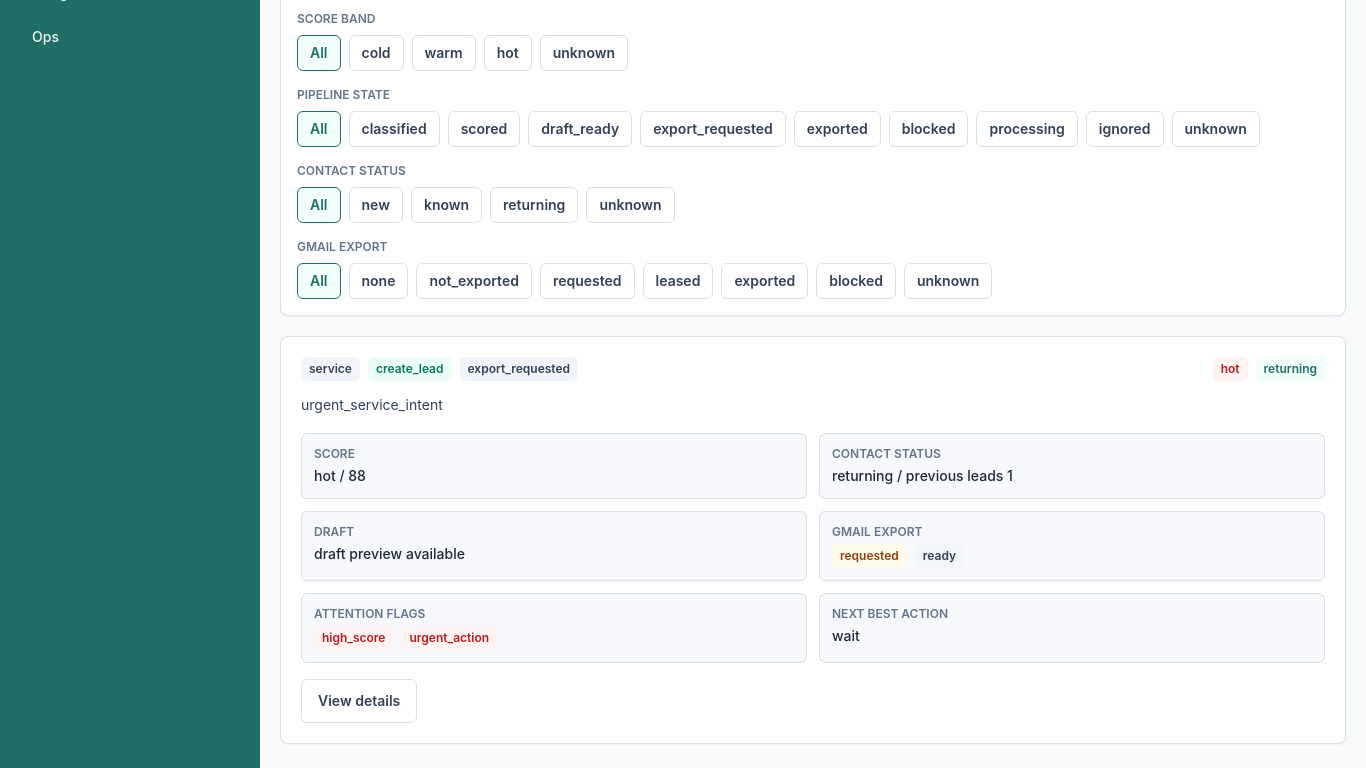
Test: admin app › opens the mail queue detail drawer with safe read-only cards and links
(page scrolled)
Click the button "View details".
click(359, 701)  # box x1=301 y1=679 x2=417 y2=723
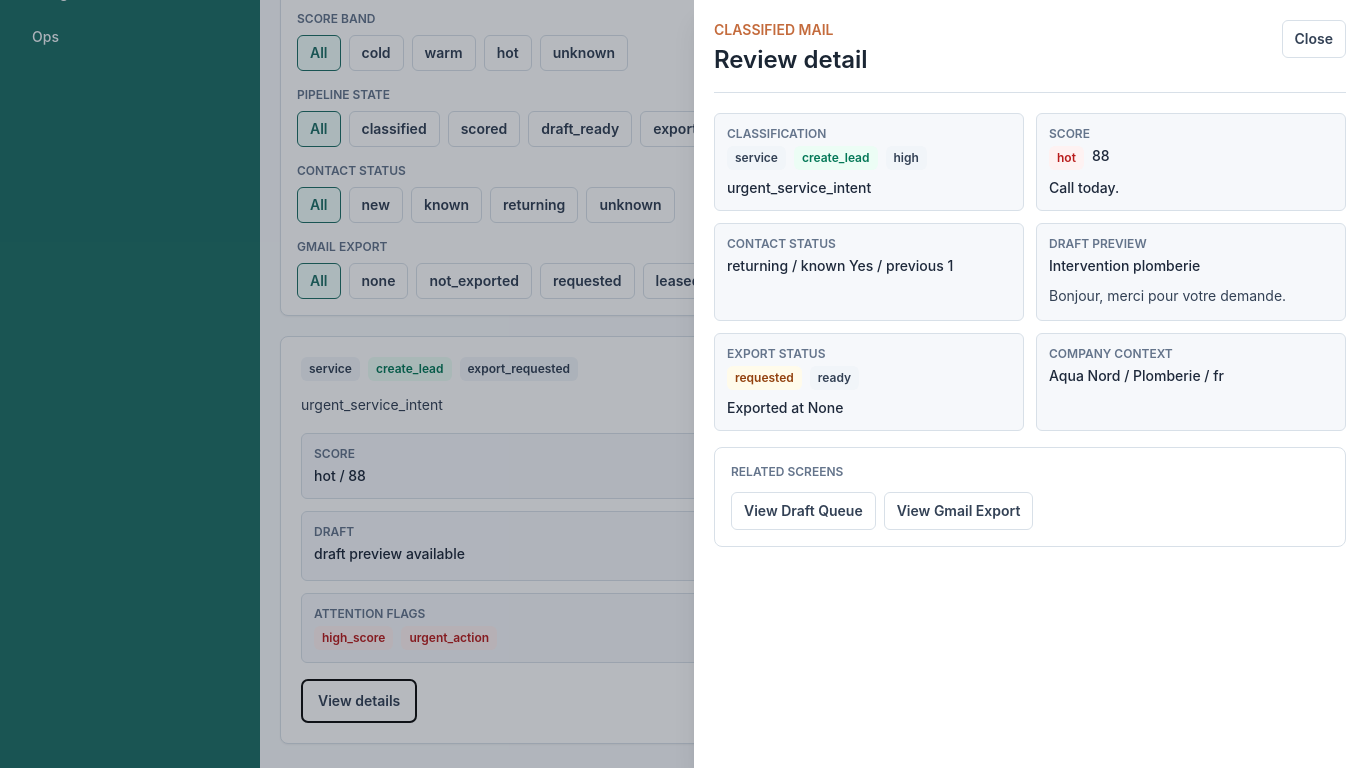
Expected: the text "Classification" is shown, x1=727 y1=126 x2=826 y2=141
Expected: the text "Score" is shown, x1=1049 y1=126 x2=1090 y2=141
Expected: the text "Contact status" is shown, x1=727 y1=236 x2=836 y2=251
